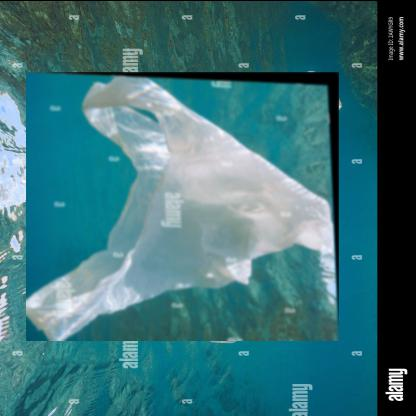plastic-bag: (26, 69, 340, 340)
